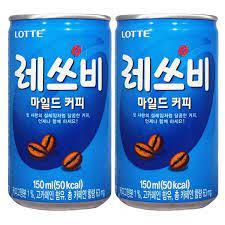letsbe: (114, 13, 219, 211), (8, 13, 113, 211)
